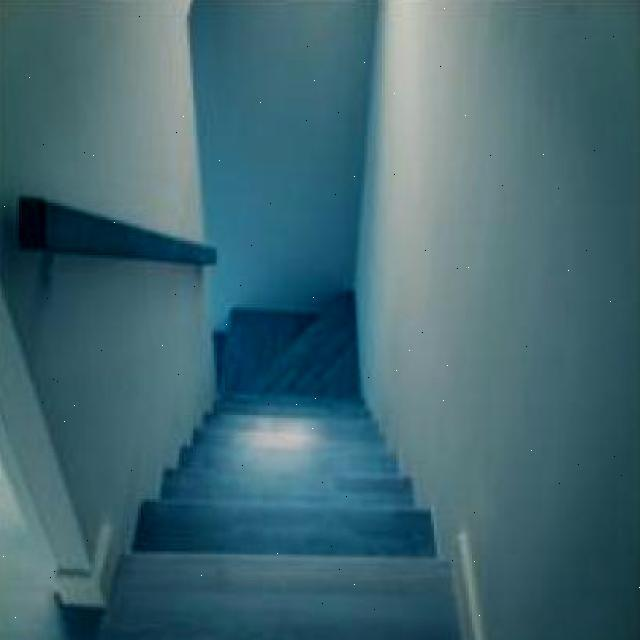stair: (127, 391, 440, 583)
